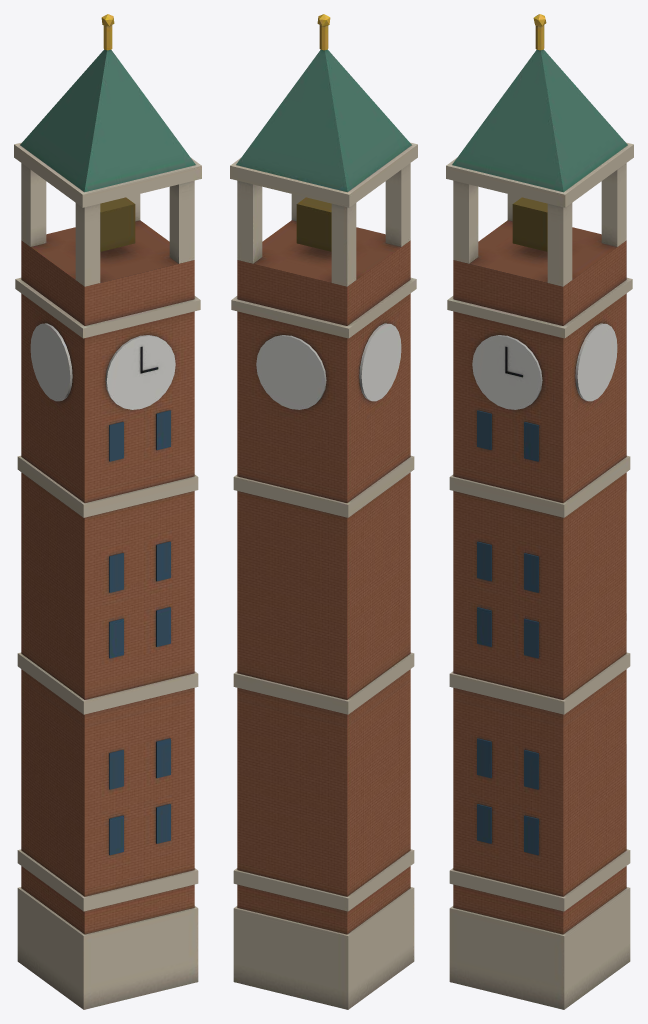
The model's file is torre_daniels.glb.
3 renders of one model, left to right at view 1: azimuth 30°, elevation 25°; view 2: azimuth 150°, elevation 25°; view 3: azimuth 330°, elevation 25°, orthographic.
Visible parts, largest first — view 1: torre_daniels; view 2: torre_daniels; view 3: torre_daniels.
Boxes of the visible parts, bbox=[...] form: torre_daniels: bbox=[14, 14, 201, 1009]; torre_daniels: bbox=[230, 14, 417, 1009]; torre_daniels: bbox=[446, 14, 633, 1009].
Size of the model in its own units: 7.6 by 58.4 by 7.6.
1 material, 1 textured.
